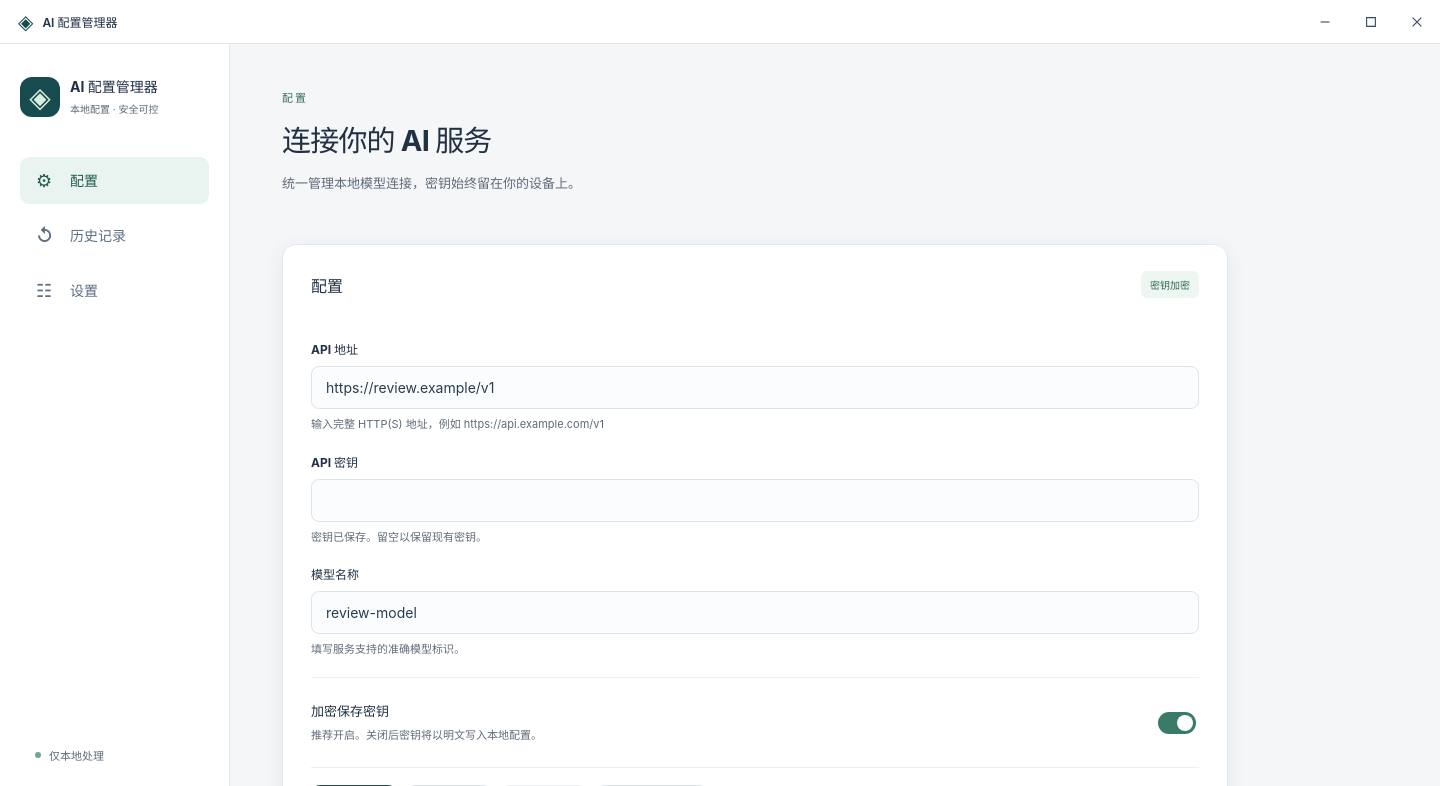
Scenario: Settings page inventory › renders the localized header, aria-current nav, language, switches, actions and metadata
The width and height of the screenshot is (1440, 786).
Expected: the field showing "https://review.example/v1" is shown, [311, 366, 1199, 409]
Click the button "☷ 设置" at (114, 290), box [20, 267, 209, 314]
(page scrolled)
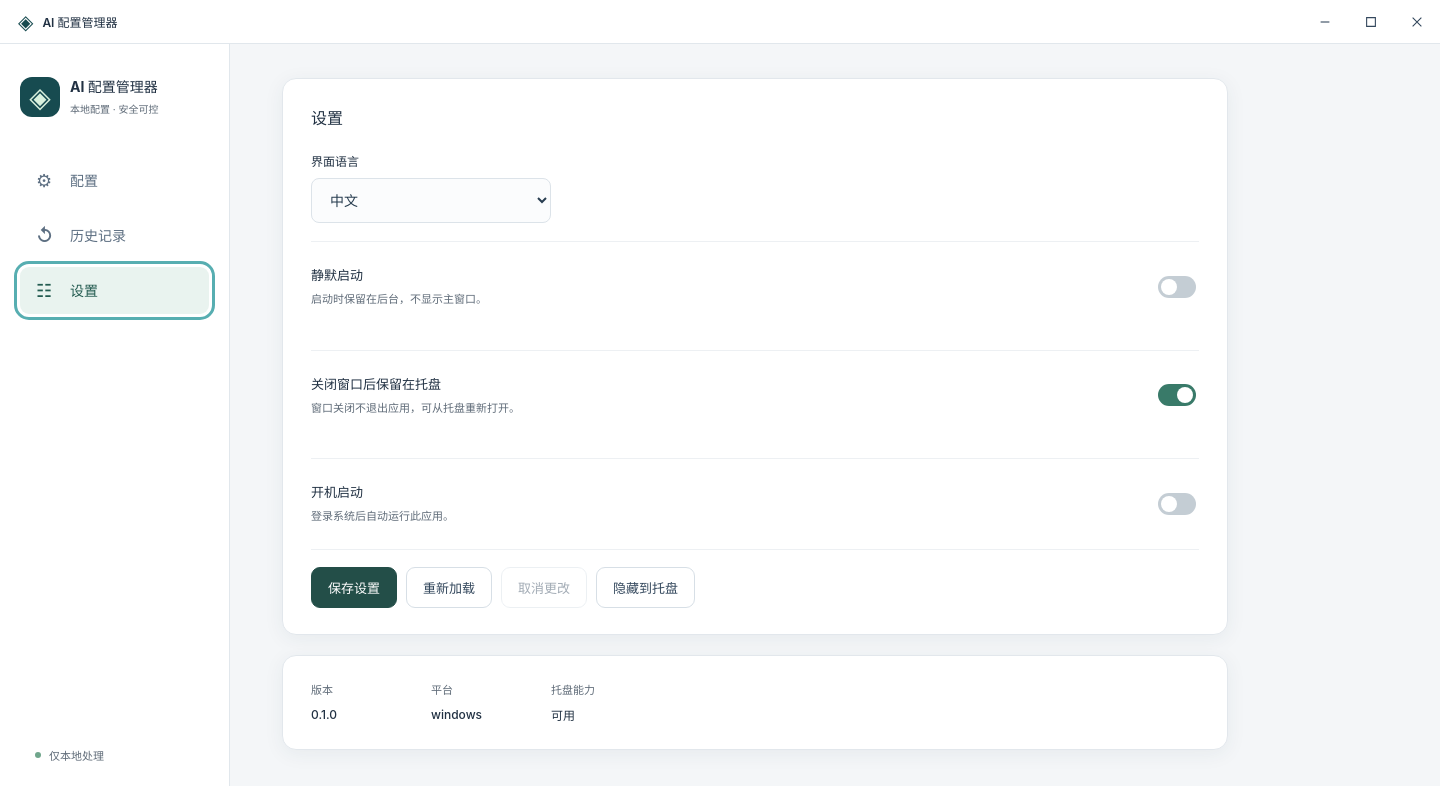
Now the dropdown labelled "界面语言" shows "中文", box [311, 178, 551, 223]
Now the switch labelled "静默启动 启动时保留在后台，不显示主窗口。" is not checked, box [1158, 276, 1196, 298]
Now the switch labelled "开机启动 登录系统后自动运行此应用。" is not checked, box [1158, 493, 1196, 515]
